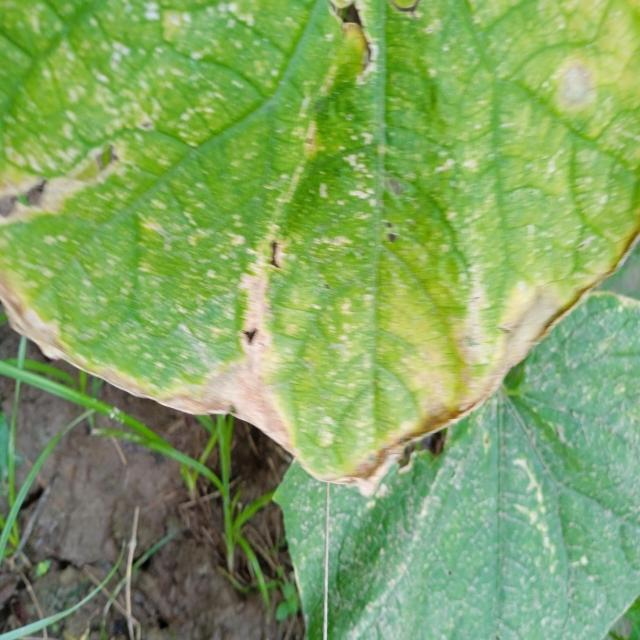cucumber_gummy: (0, 0, 639, 505)
